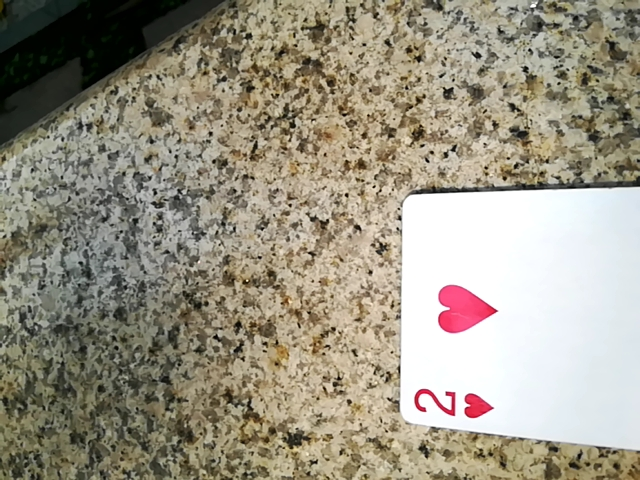hx 2: (400, 178, 637, 462)
